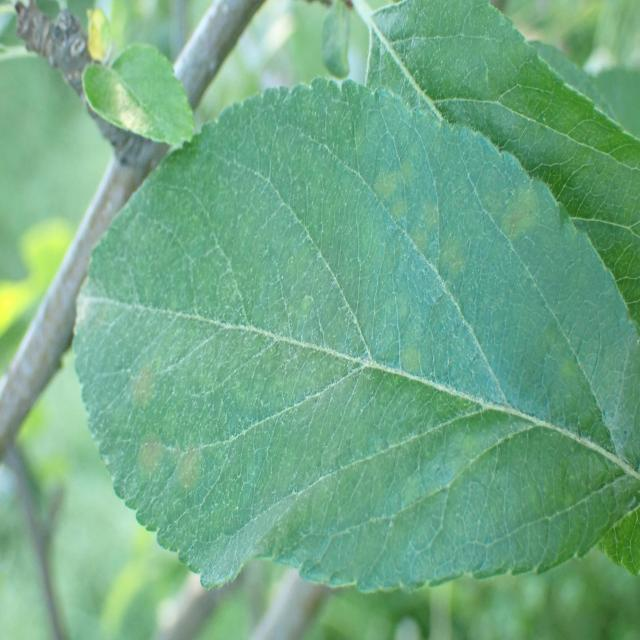scab: (82, 179, 598, 577)
